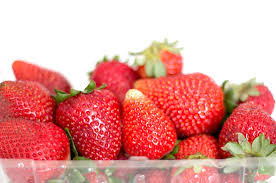strawberry: (134, 73, 229, 138), (55, 87, 124, 163), (1, 115, 71, 183), (119, 89, 177, 160), (219, 100, 276, 160), (1, 78, 57, 128)
